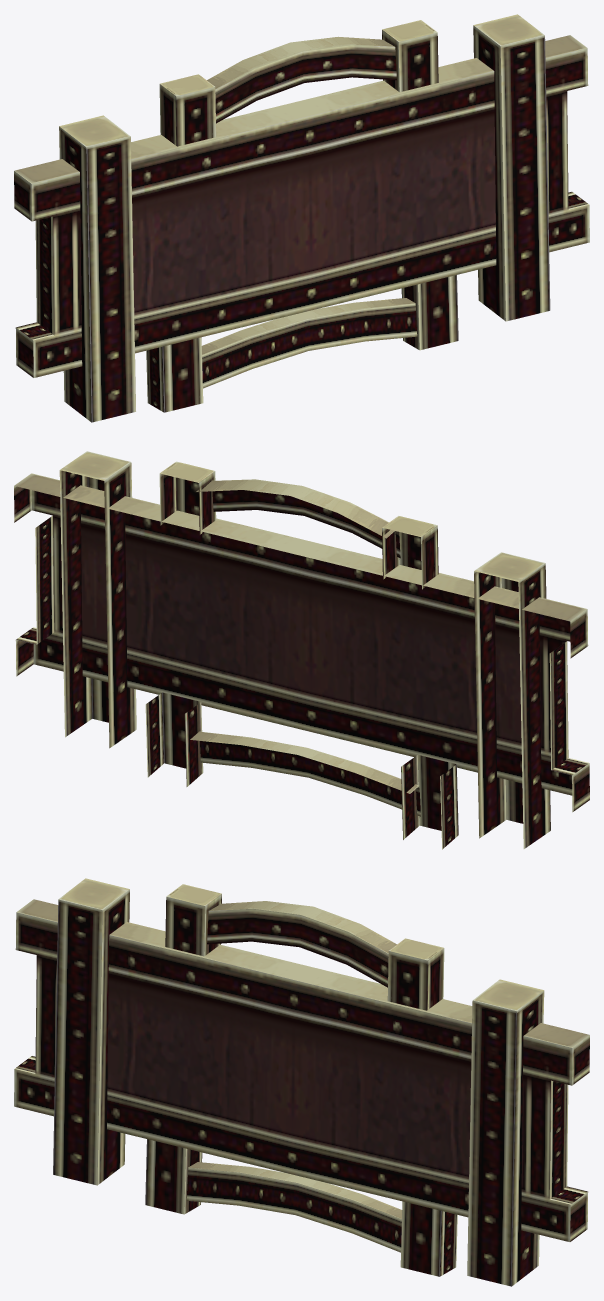
The model's file is FH_Env_MenPai_05.FBX.
3 views of the same model, one above another, from view 1: azimuth 30°, elevation 25°; view 2: azimuth 150°, elevation 25°; view 3: azimuth 330°, elevation 25° (orthographic).
Parts seen in each view (by area): view 1: Object03; view 2: Object03; view 3: Object03.
Boxes of the visible parts, x1,y1,x2,y2 form: Object03: (14,14,589,422); Object03: (14,451,589,849); Object03: (14,878,589,1286).
Bounding box in the file's own units: 6.09 × 3.37 × 0.618.
